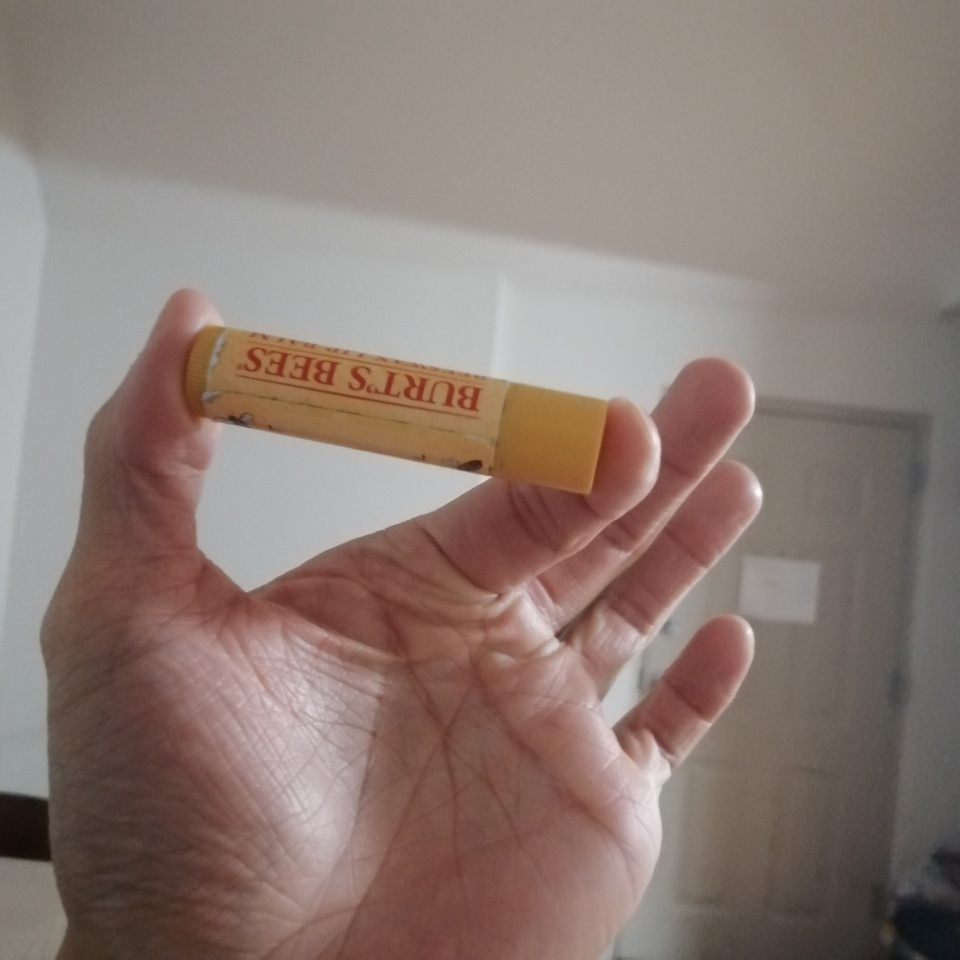chapstick: (182, 324, 610, 495)
